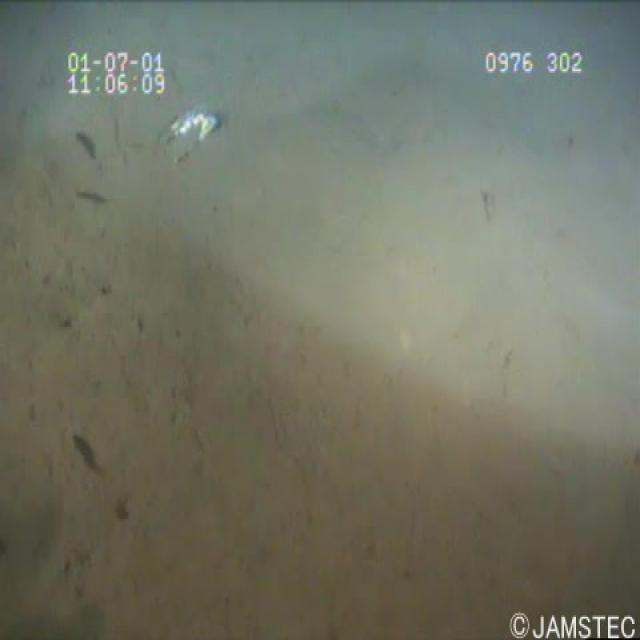plastic: (156, 89, 232, 183)
